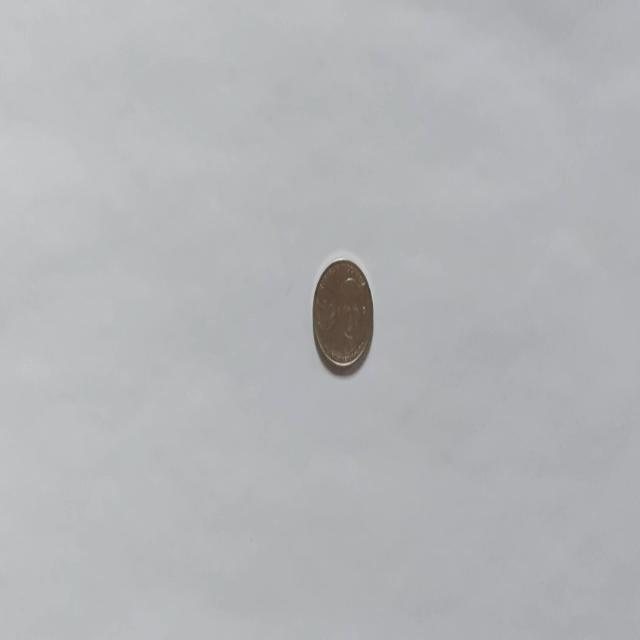seribu rupiah koin: (311, 255, 374, 372)
